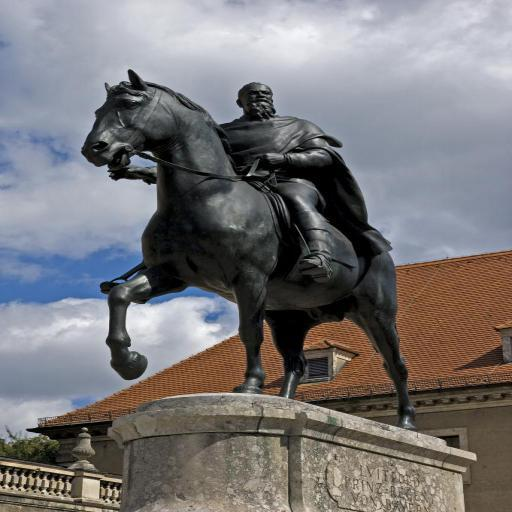horse: (81, 68, 420, 430)
